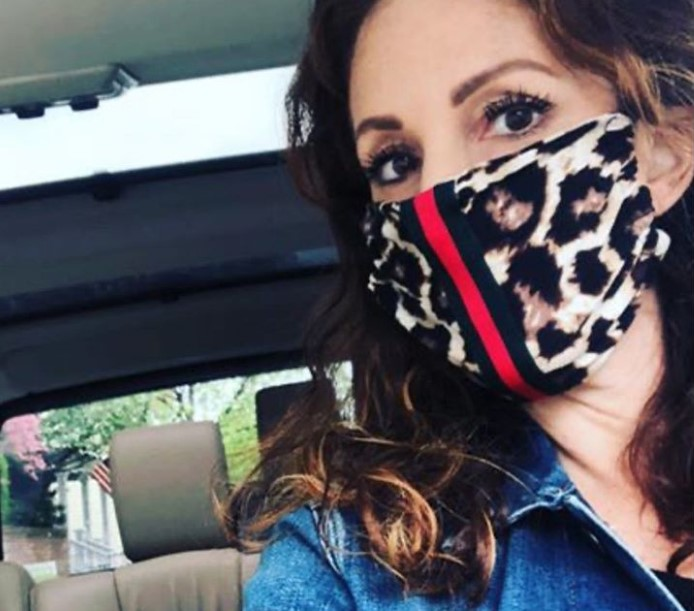face_with_mask: (306, 7, 685, 408)
